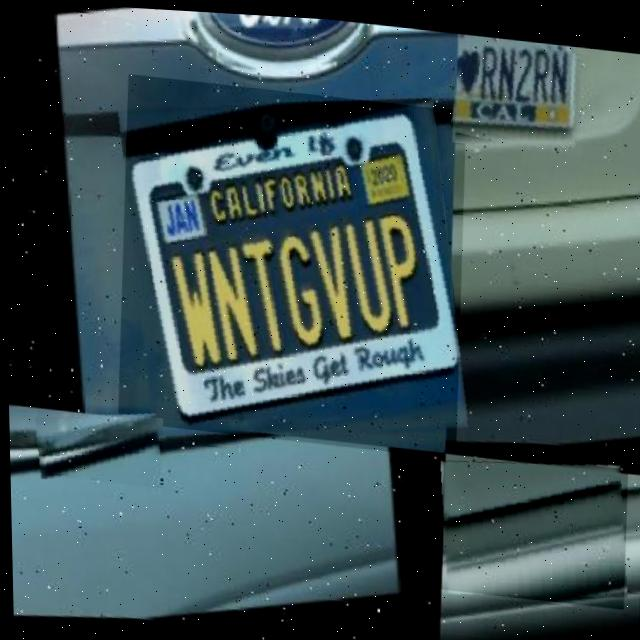LicensePlate: (110, 72, 473, 454), (434, 443, 629, 602), (450, 27, 588, 150), (32, 404, 162, 486)
